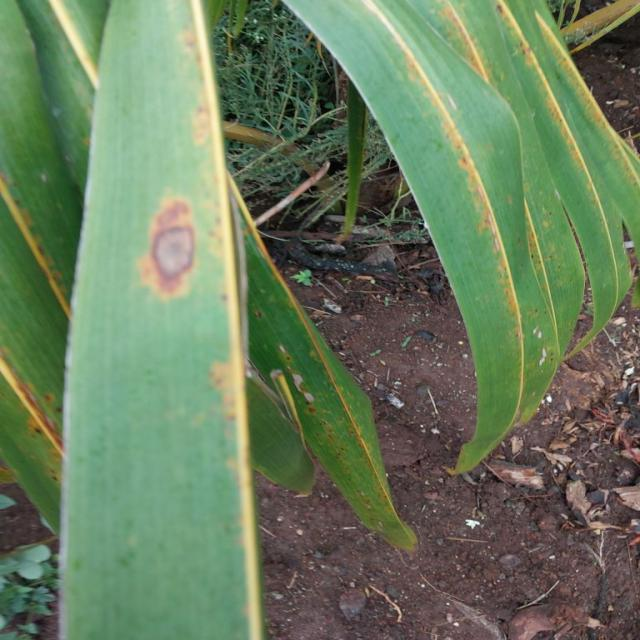gray leaf spot: (117, 161, 241, 411)
